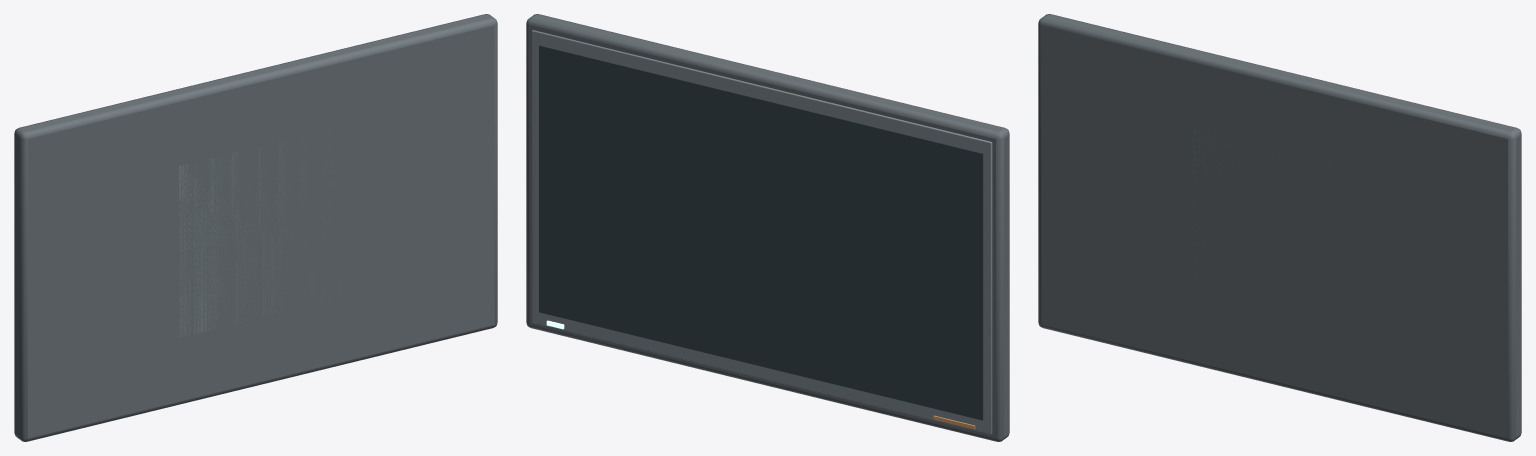
File: wall_screen.glb
The picture shows the model from 3 angles, left to right: view 1: azimuth 30°, elevation 25°; view 2: azimuth 150°, elevation 25°; view 3: azimuth 330°, elevation 25°; orthographic projection.
Parts seen in each view (by area): view 1: frame_graphite, mount_dark_alloy; view 2: display_screen_glass_dark_glass, frame_graphite, bezel_dark_alloy; view 3: frame_graphite.
Part boxes in pixels (x1,y1,x2,y2): frame_graphite: [14, 14, 497, 441]; mount_dark_alloy: [179, 141, 341, 336]; display_screen_glass_dark_glass: [539, 45, 983, 420]; frame_graphite: [526, 14, 1009, 441]; bezel_dark_alloy: [531, 30, 992, 434]; frame_graphite: [1038, 14, 1521, 441].
Bounding box in the file's own units: 1.16 × 0.72 × 0.054.
